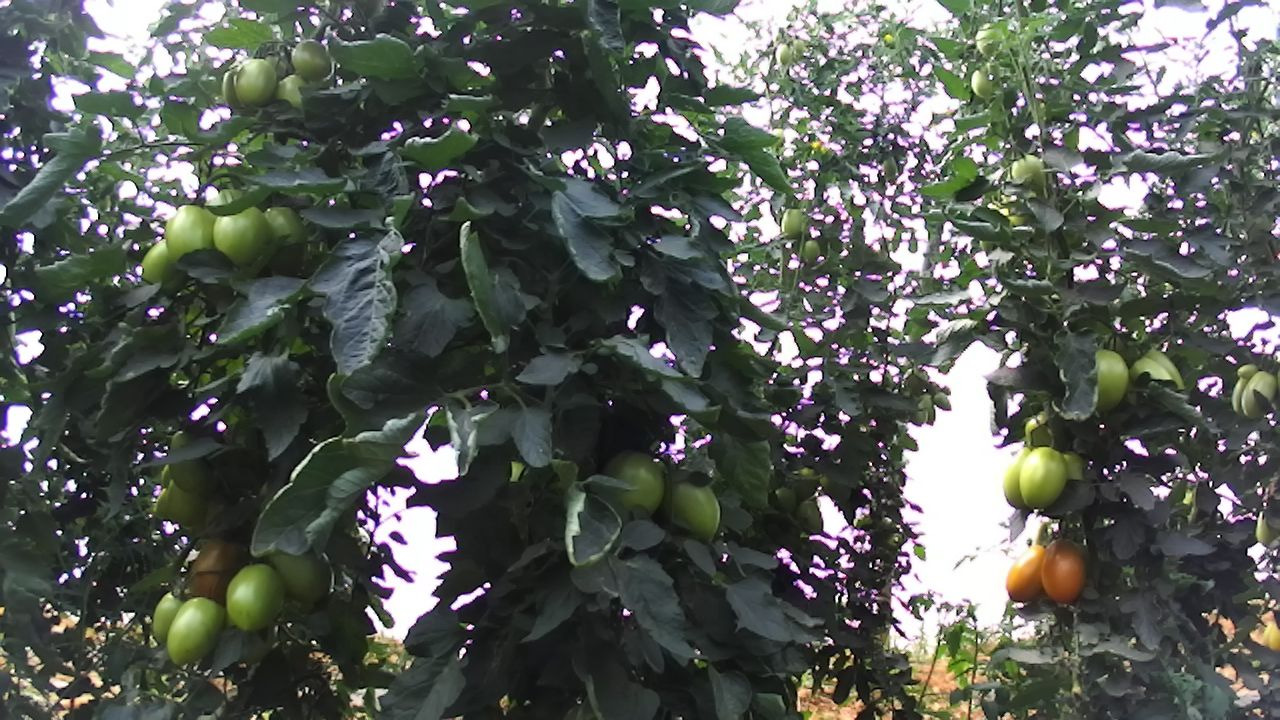tomato: (262, 529, 339, 607), (595, 447, 669, 526), (221, 559, 288, 635), (162, 595, 228, 669), (208, 197, 273, 269), (664, 477, 726, 548), (1015, 443, 1073, 515), (162, 201, 220, 271), (1038, 536, 1091, 607), (1083, 347, 1134, 420), (1002, 541, 1049, 605), (137, 235, 189, 290), (257, 203, 311, 254), (231, 56, 279, 111), (1238, 368, 1280, 422), (288, 38, 335, 86), (793, 498, 825, 537), (1234, 359, 1260, 380)
